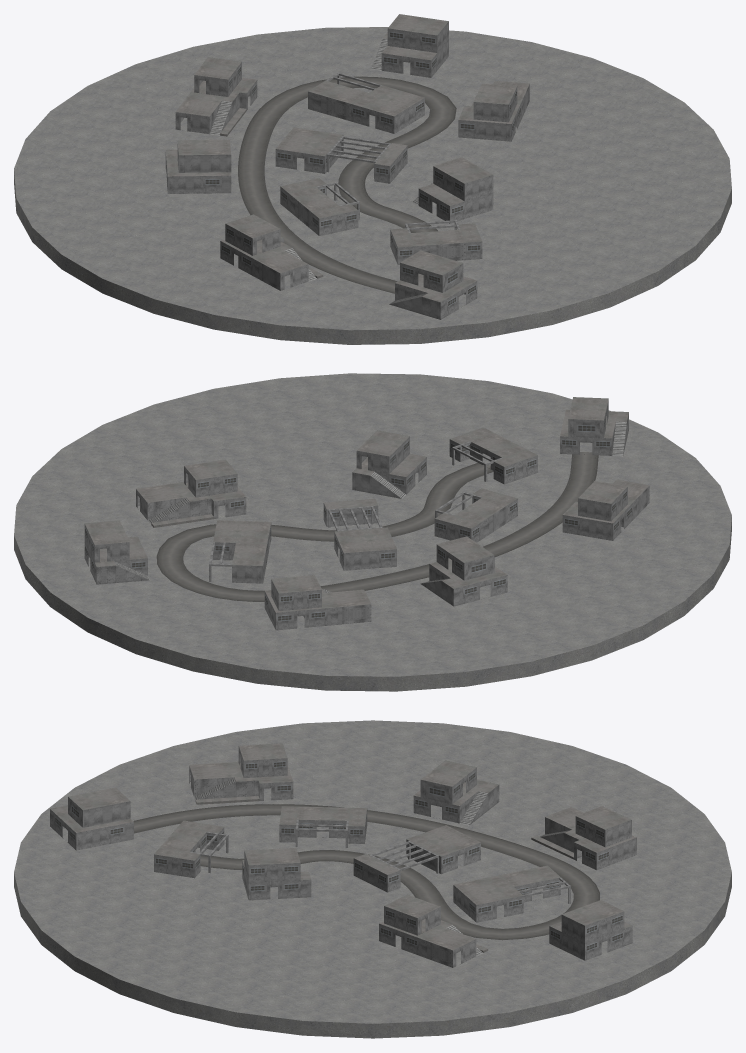
The model's file is arena_tdm.glb.
3 renders of one model, top to bottom at view 1: azimuth 30°, elevation 25°; view 2: azimuth 150°, elevation 25°; view 3: azimuth 270°, elevation 25°, orthographic.
Parts seen in each view (by area): view 1: ground, Road, Building_6, Building_1, Building_6.002, Building_4.001, Building_3, Building_2, Building_2.001, Building_4, Building_6.001, Building_5 (+1 smaller); view 2: ground, Road, Building_6.001, Building_6, Building_4, Building_3, Building_6.002, Building_2.001, Building_4.001, Building_2, Building_1, Building_5 (+1 smaller); view 3: ground, Road, Building_6.002, Building_6, Building_6.001, Building_3, Building_4.001, Building_1, Building_4, Building_2, Building_2.001, Building_5 (+1 smaller).
Part boxes in pixels (x1,y1,x2,y2): ground: (14, 27, 731, 344); Road: (238, 76, 456, 293); Building_6: (175, 57, 257, 136); Building_1: (308, 72, 424, 133); Building_6.002: (220, 214, 323, 290); Building_4.001: (389, 250, 477, 319); Building_3: (275, 127, 407, 183); Building_2: (371, 14, 448, 77); Building_2.001: (412, 157, 493, 223); Building_4: (165, 139, 231, 193); Building_6.001: (458, 80, 529, 141); Building_5: (280, 178, 359, 235); ground: (14, 373, 731, 691); Road: (156, 452, 598, 601); Building_6.001: (136, 459, 246, 527); Building_6: (264, 575, 371, 630); Building_4: (420, 536, 507, 606); Building_3: (323, 498, 396, 570); Building_6.002: (562, 479, 649, 540); Building_2.001: (352, 430, 426, 498); Building_4.001: (560, 397, 628, 456); Building_2: (84, 520, 149, 584); Building_1: (209, 520, 271, 583); Building_5: (434, 488, 517, 542); ground: (14, 720, 731, 1038); Road: (133, 804, 599, 940); Building_6.002: (189, 743, 293, 804); Building_6: (531, 806, 636, 870); Building_6.001: (379, 894, 488, 967); Building_3: (353, 825, 480, 892); Building_4.001: (50, 787, 133, 850); Building_1: (453, 865, 570, 922); Building_4: (413, 760, 499, 825); Building_2: (549, 900, 632, 960); Building_2.001: (242, 848, 311, 900); Building_5: (279, 806, 367, 847).
Bounding box in the file's own units: 115 × 8.83 × 115.
3 materials, 3 textured.
